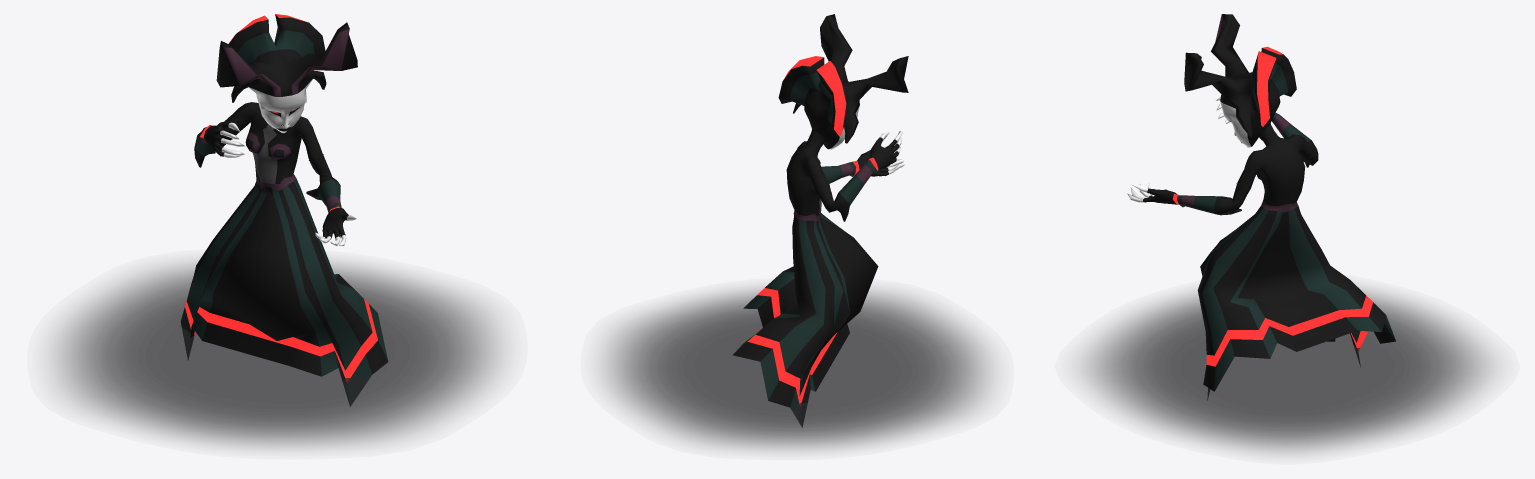
The model's file is creature_witch.glb.
3 views of the same model, side by side, from view 1: azimuth 30°, elevation 25°; view 2: azimuth 150°, elevation 25°; view 3: azimuth 270°, elevation 25° (orthographic). The views are drawn at different scales.
Parts seen in each view (by area): view 1: plane_shadow, mistress; view 2: plane_shadow, mistress; view 3: plane_shadow, mistress.
Boxes of the visible parts, x1,y1,x2,y2 form: plane_shadow: [51, 261, 503, 448]; mistress: [180, 14, 388, 406]; plane_shadow: [601, 287, 993, 451]; mistress: [733, 14, 908, 427]; plane_shadow: [1080, 287, 1494, 453]; mistress: [1127, 14, 1395, 396].
Bounding box in the file's own units: 260 × 212 × 260.
7 materials, 1 textured.
